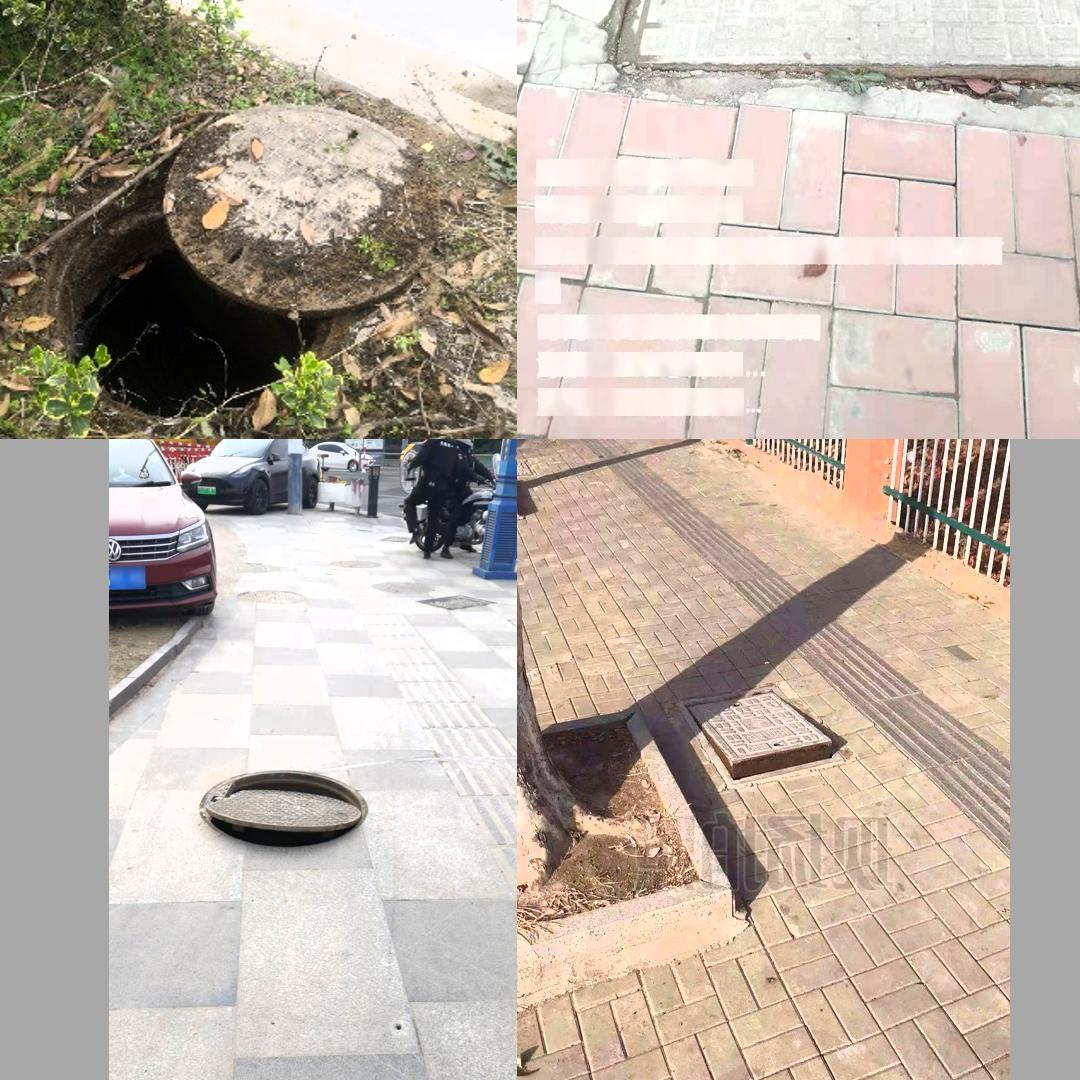uncovered: (20, 97, 436, 409), (604, 0, 1080, 107), (677, 685, 846, 787), (197, 769, 367, 852)
